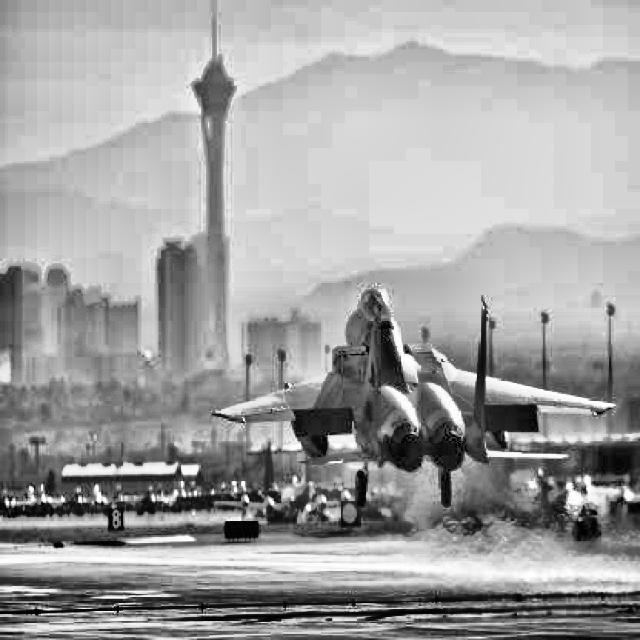F15: (212, 288, 616, 508)
